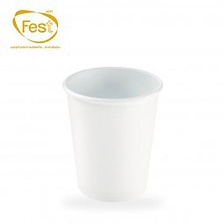paper_cup: (57, 60, 167, 207)
